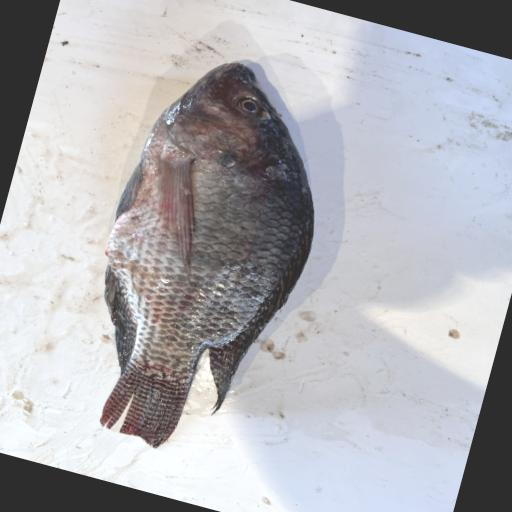Tilapia: (59, 41, 353, 474)
